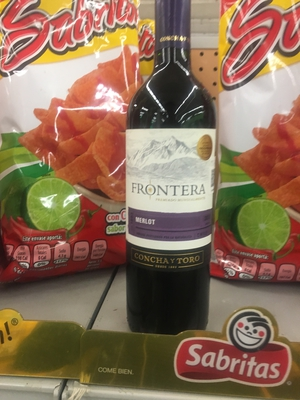frontera merlot: (110, 22, 233, 341)
